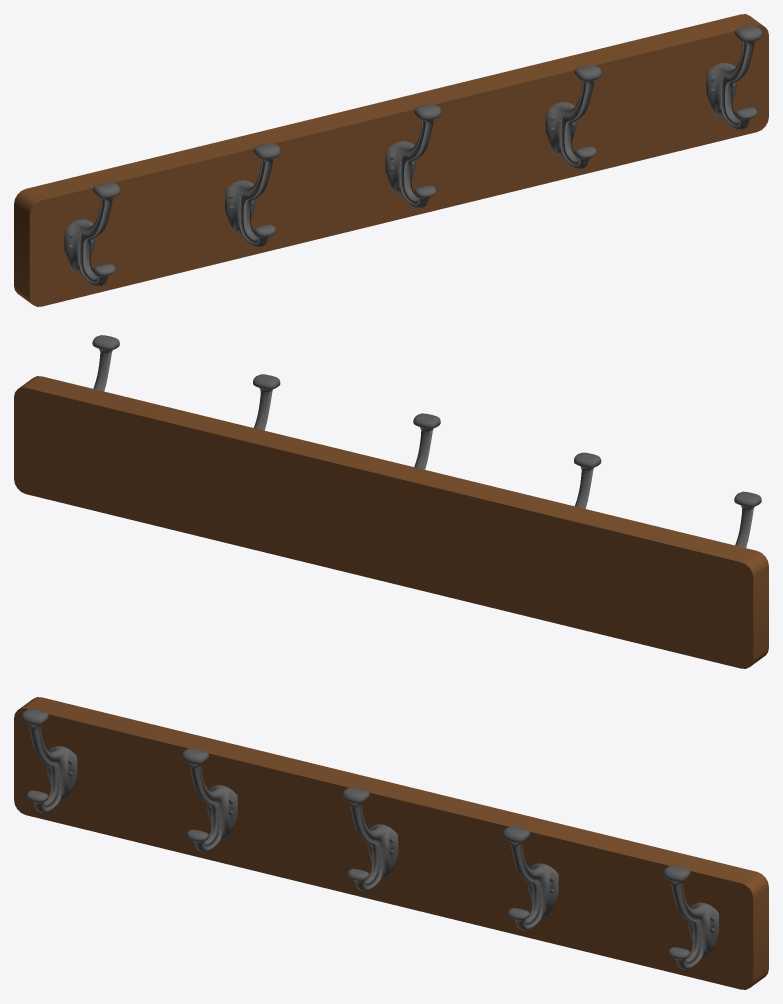
Rendered from coat_rack_hook_hanger_boxroom_3d.glb.
3 views of the same model, one above another, from view 1: azimuth 30°, elevation 25°; view 2: azimuth 150°, elevation 25°; view 3: azimuth 330°, elevation 25° (orthographic).
Visible parts, largest first — view 1: Object_4, Object_5; view 2: Object_4, Object_5; view 3: Object_4, Object_5.
Part boxes in pixels (x1=…): Object_4: x1=14, y1=14, x2=768, y2=306; Object_5: x1=64, y1=26, x2=762, y2=286; Object_4: x1=14, y1=376, x2=768, y2=668; Object_5: x1=92, y1=335, x2=761, y2=547; Object_4: x1=14, y1=697, x2=768, y2=989; Object_5: x1=21, y1=709, x2=718, y2=969.
Bounding box in the file's own units: 1.45 × 0.2477 × 0.1691.
